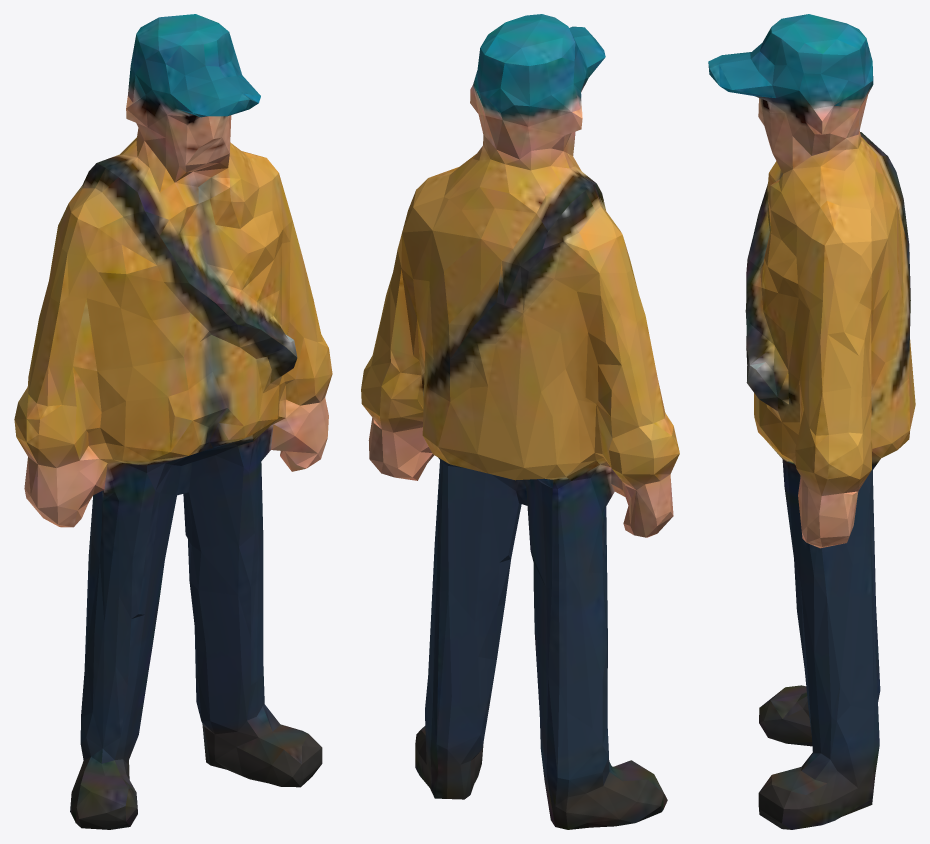
The model's file is habitant-loin.glb.
3 renders of one model, left to right at view 1: azimuth 30°, elevation 25°; view 2: azimuth 150°, elevation 25°; view 3: azimuth 270°, elevation 25°, orthographic. The views are drawn at different scales.
Parts seen in each view (by area): view 1: habitant; view 2: habitant; view 3: habitant.
Part boxes in pixels (box(x1,y1,x2,y2)): habitant: box(14, 14, 332, 829); habitant: box(361, 14, 679, 829); habitant: box(708, 14, 915, 829).
Bounding box in the file's own units: 0.4216 × 1.01 × 0.2524.
Materials: 1 (1 with a texture image).
